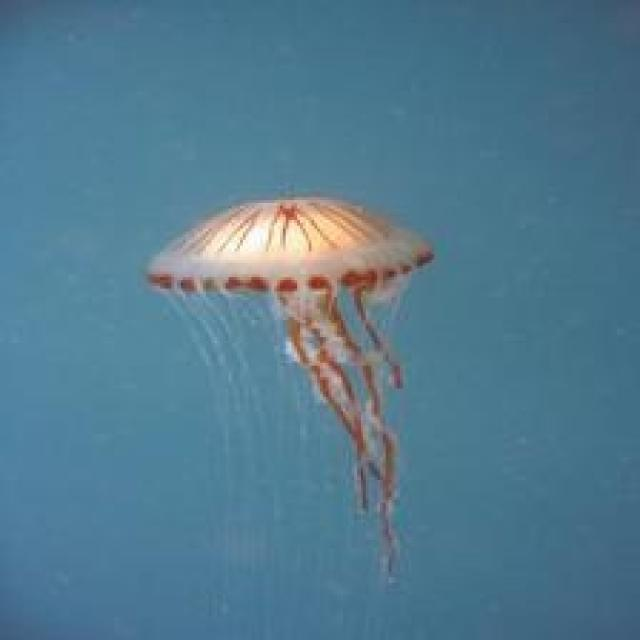Box-jellyfish: (143, 188, 434, 583)
